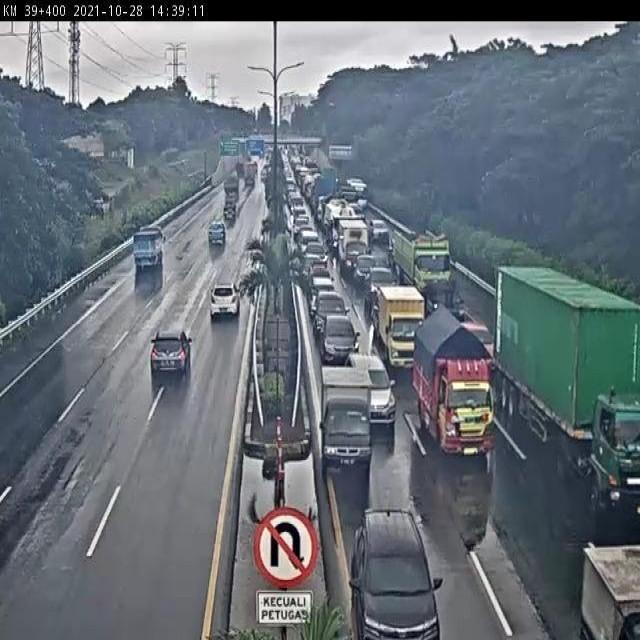big truck: (139, 266, 224, 371), (410, 277, 480, 371), (204, 240, 245, 303), (345, 227, 373, 268)
car: (108, 582, 232, 640), (161, 456, 228, 541), (339, 348, 395, 437), (205, 338, 247, 402), (219, 308, 265, 361), (310, 282, 344, 322), (243, 274, 265, 302), (304, 240, 324, 265)
small truck: (411, 312, 508, 480), (53, 346, 160, 486), (62, 320, 141, 397), (361, 287, 404, 360), (338, 260, 365, 299)
